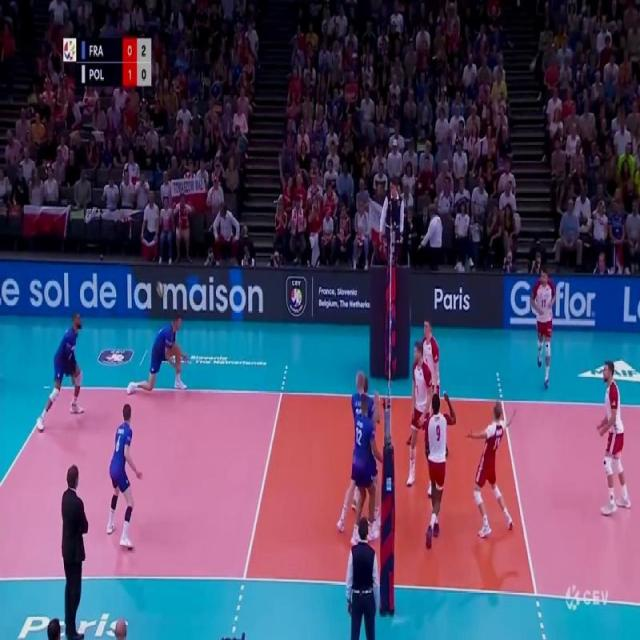volleyball: (157, 282, 164, 298)
